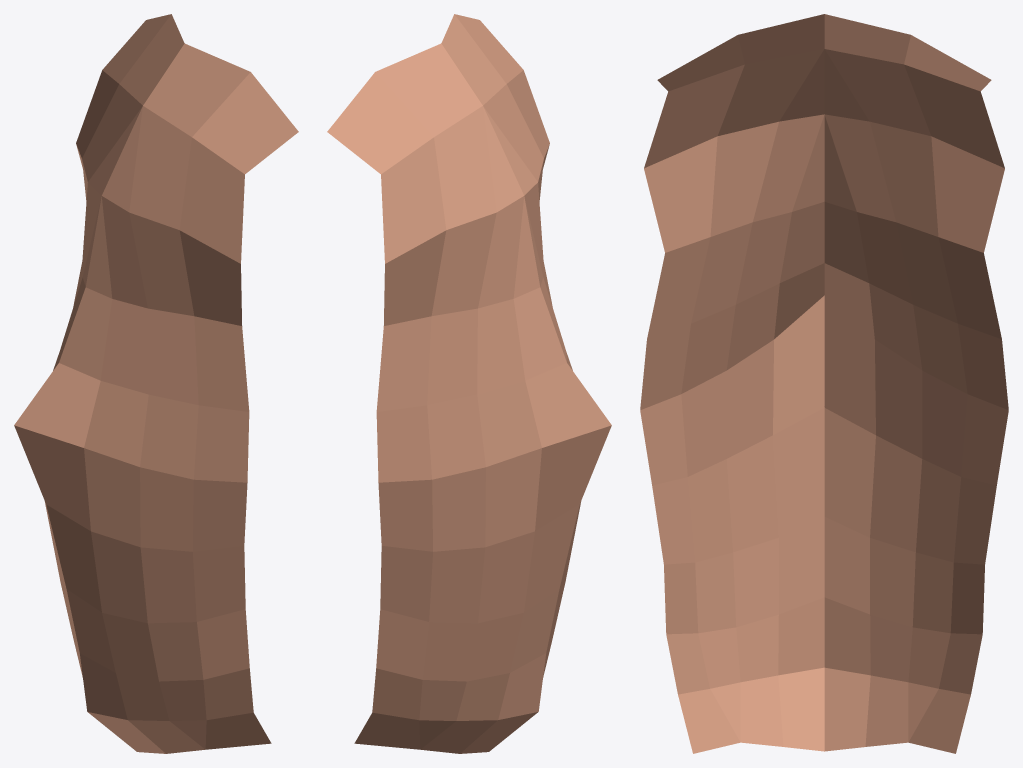
Rendered from jerocarafrente (1).fbx.
The picture shows the model from 3 angles, left to right: view 1: azimuth 30°, elevation 25°; view 2: azimuth 150°, elevation 25°; view 3: azimuth 270°, elevation 25°; orthographic projection. The views are drawn at different scales.
Visible parts, largest first — view 1: Plane.003; view 2: Plane.003; view 3: Plane.003.
Boxes of the visible parts, box(x1,y1,x2,y2) form: Plane.003: box(14, 14, 298, 753); Plane.003: box(327, 14, 611, 753); Plane.003: box(640, 14, 1008, 753).
Size of the model in its own units: 7.28 by 23.27 by 10.19.
